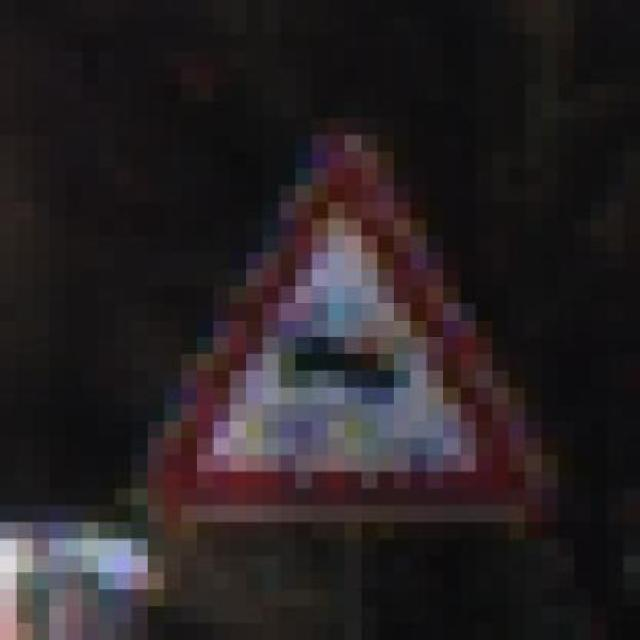Slippery Road Ahead: (147, 84, 558, 539)
